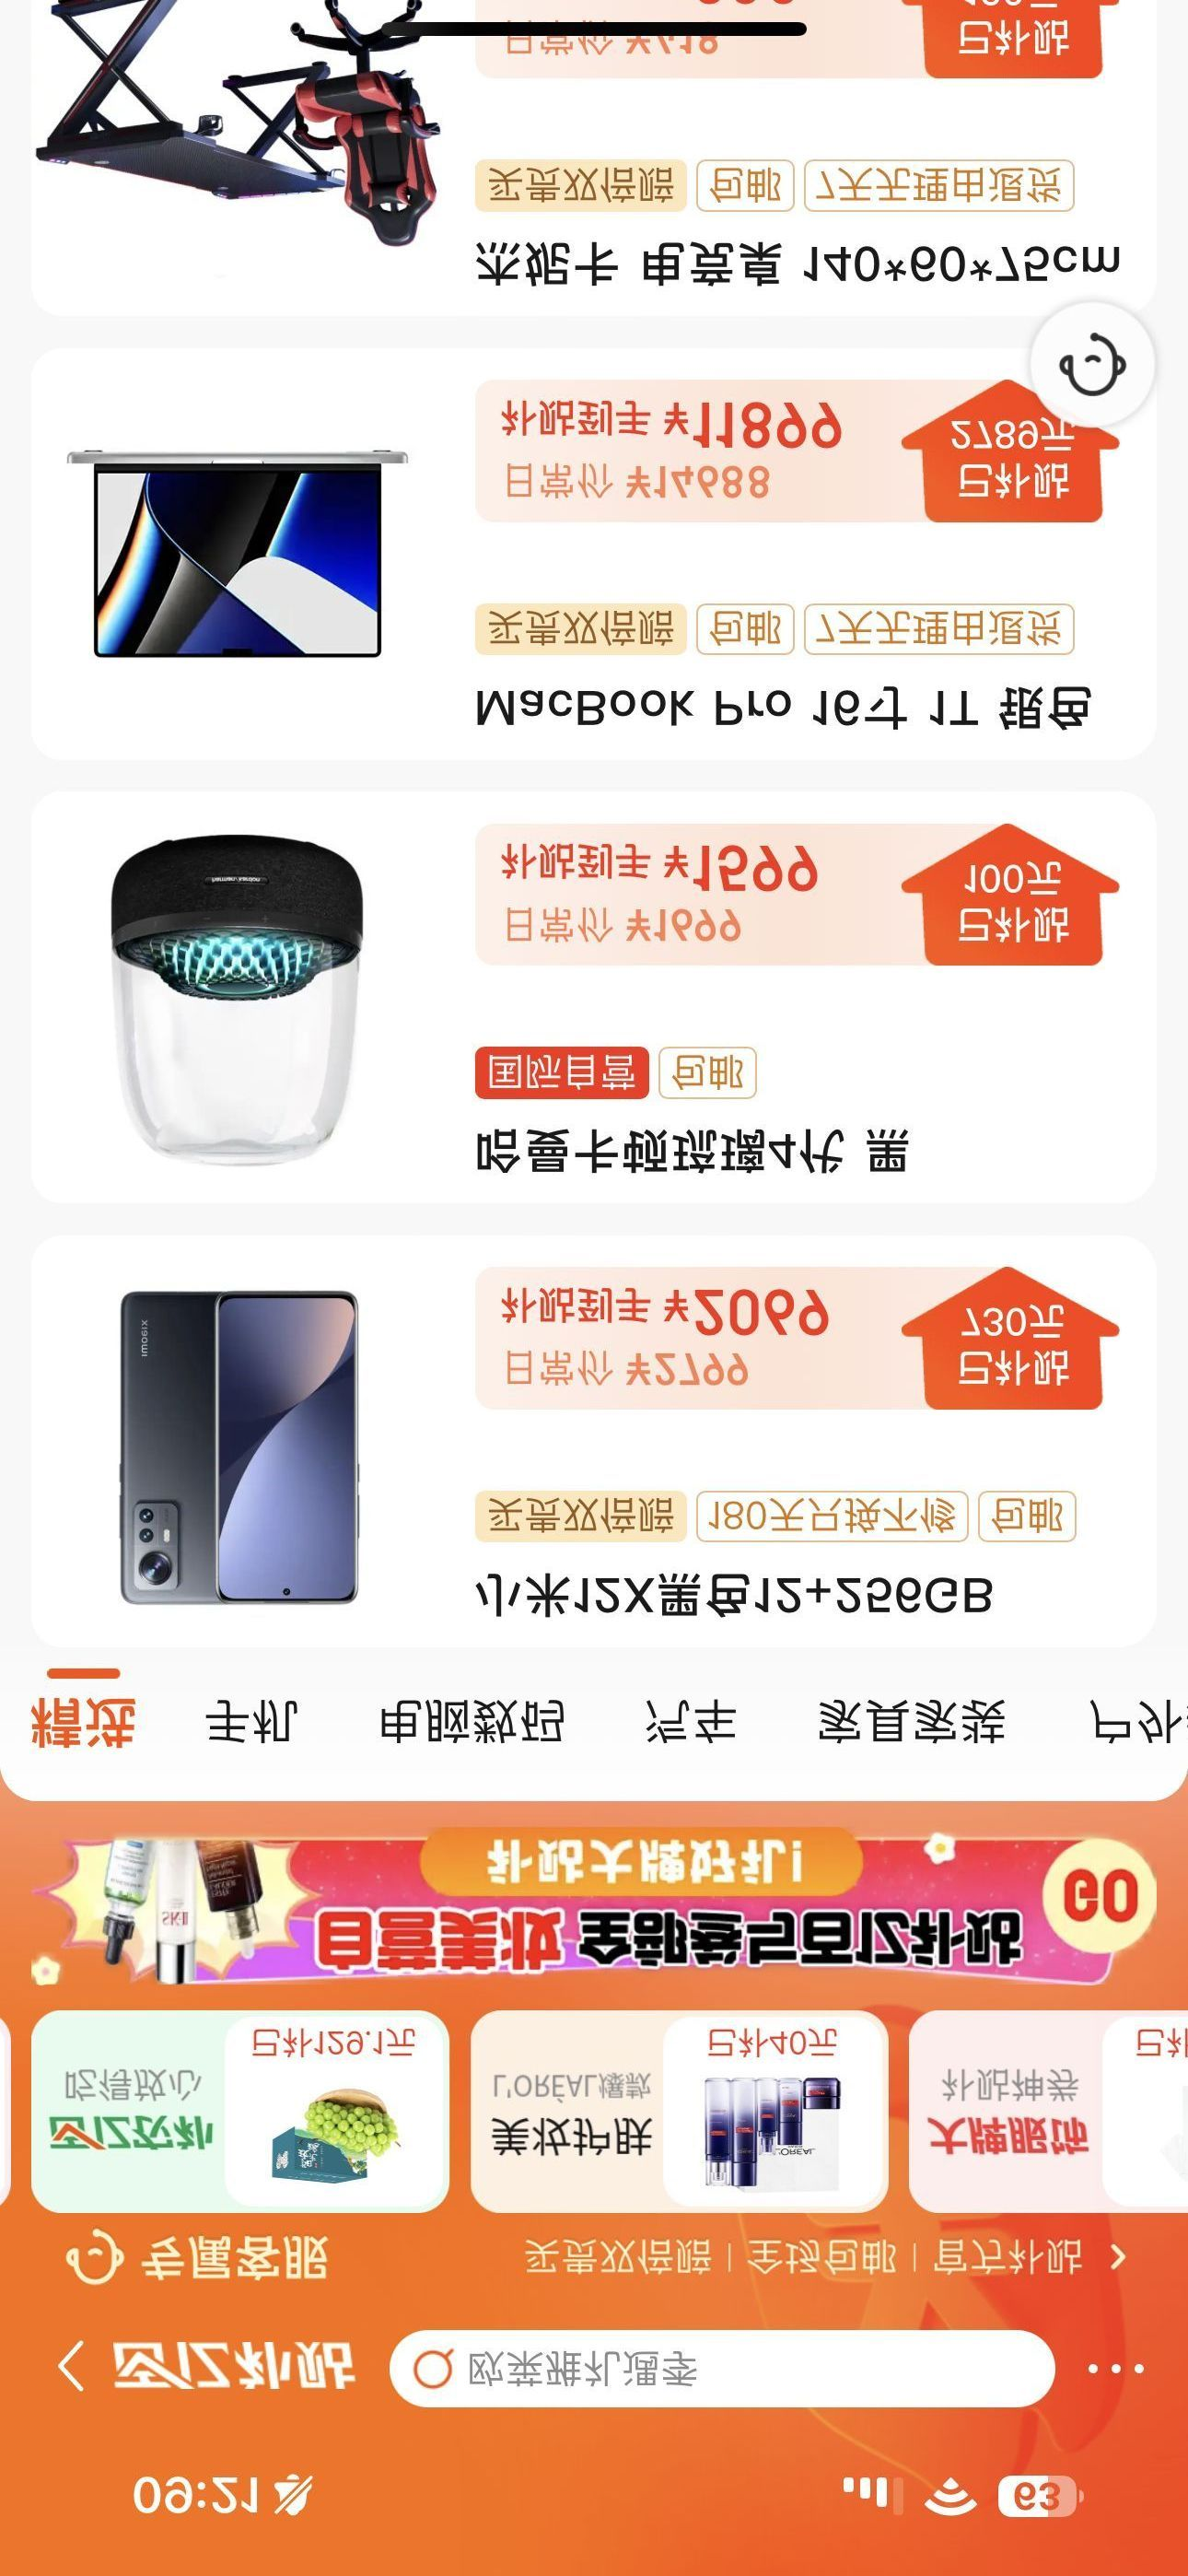item: (7, 1222, 1186, 1679), (7, 767, 1186, 1209), (2, 324, 1186, 756)
op_bar: (5, 2310, 1188, 2430)
seckill: (7, 1817, 1185, 2249)
